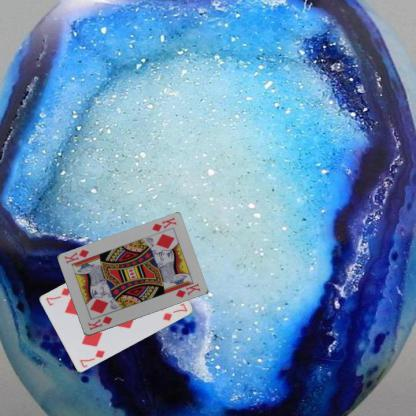7d: (77, 347, 106, 369)
Kd: (149, 215, 178, 233), (85, 314, 113, 332)
